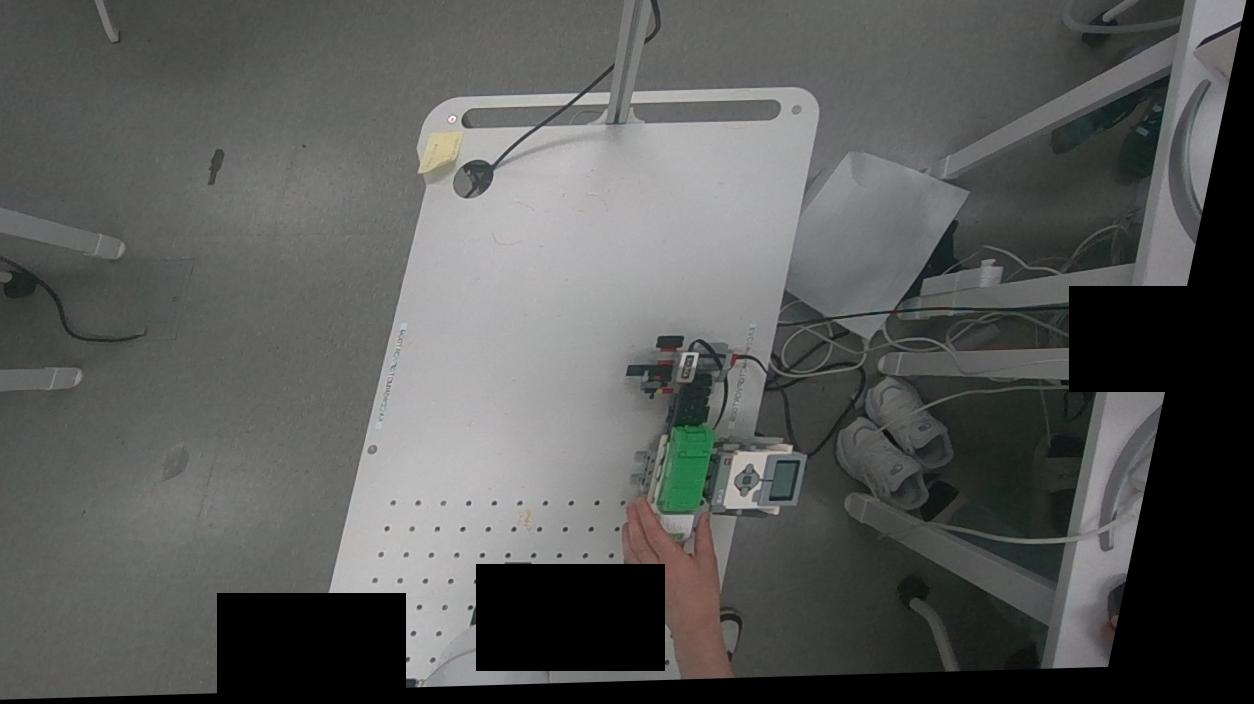truck: (624, 403, 734, 551)
